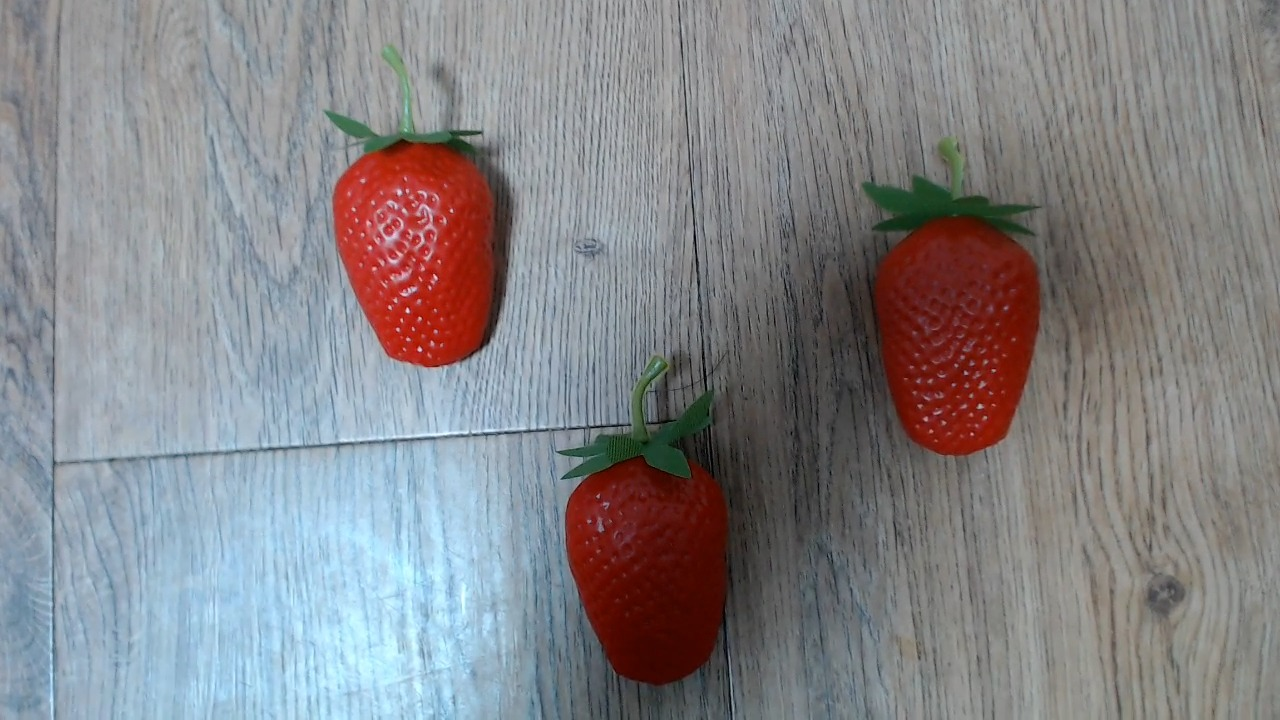strawberry: (550, 410, 762, 691), (866, 206, 1056, 472), (329, 111, 511, 374)
